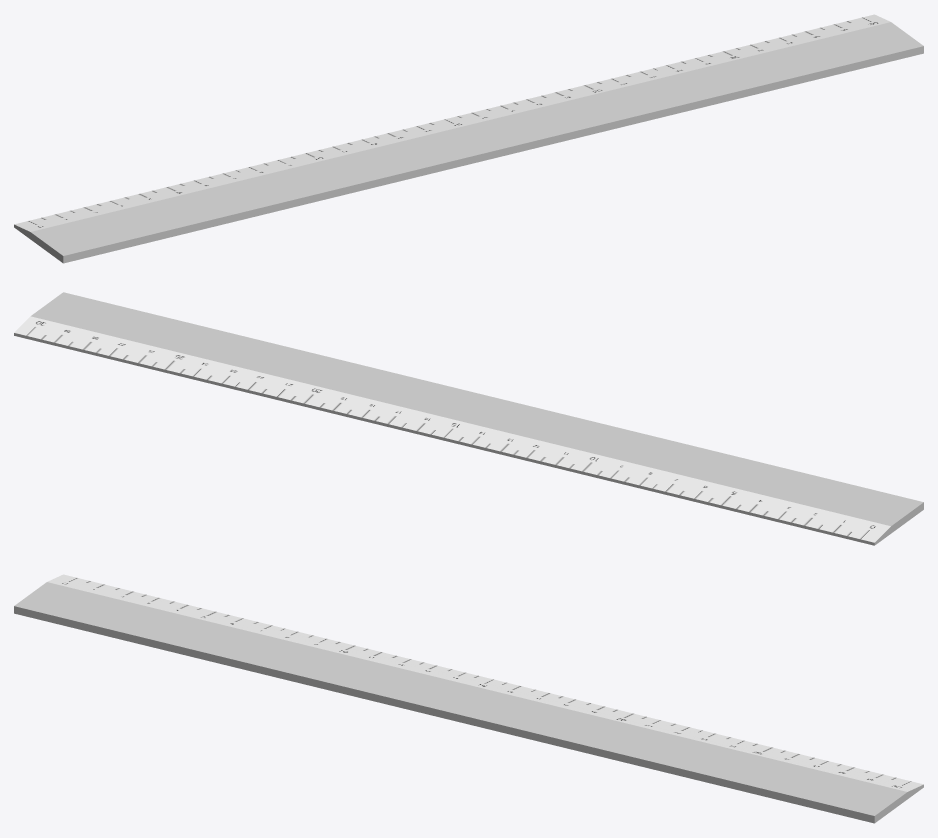
3 views of the same model, one above another, from view 1: azimuth 30°, elevation 25°; view 2: azimuth 150°, elevation 25°; view 3: azimuth 330°, elevation 25° (orthographic).
Visible parts, largest first — view 1: 427_定規30cm; view 2: 427_定規30cm; view 3: 427_定規30cm.
Part boxes in pixels (left/top/right/bottom): 427_定規30cm: left=14, top=14, right=923, bottom=263; 427_定規30cm: left=14, top=292, right=923, bottom=545; 427_定規30cm: left=14, top=574, right=923, bottom=823.
Bounding box in the file's own units: 0.302 × 0.0025 × 0.03.
Materials: 2 (1 with a texture image).
